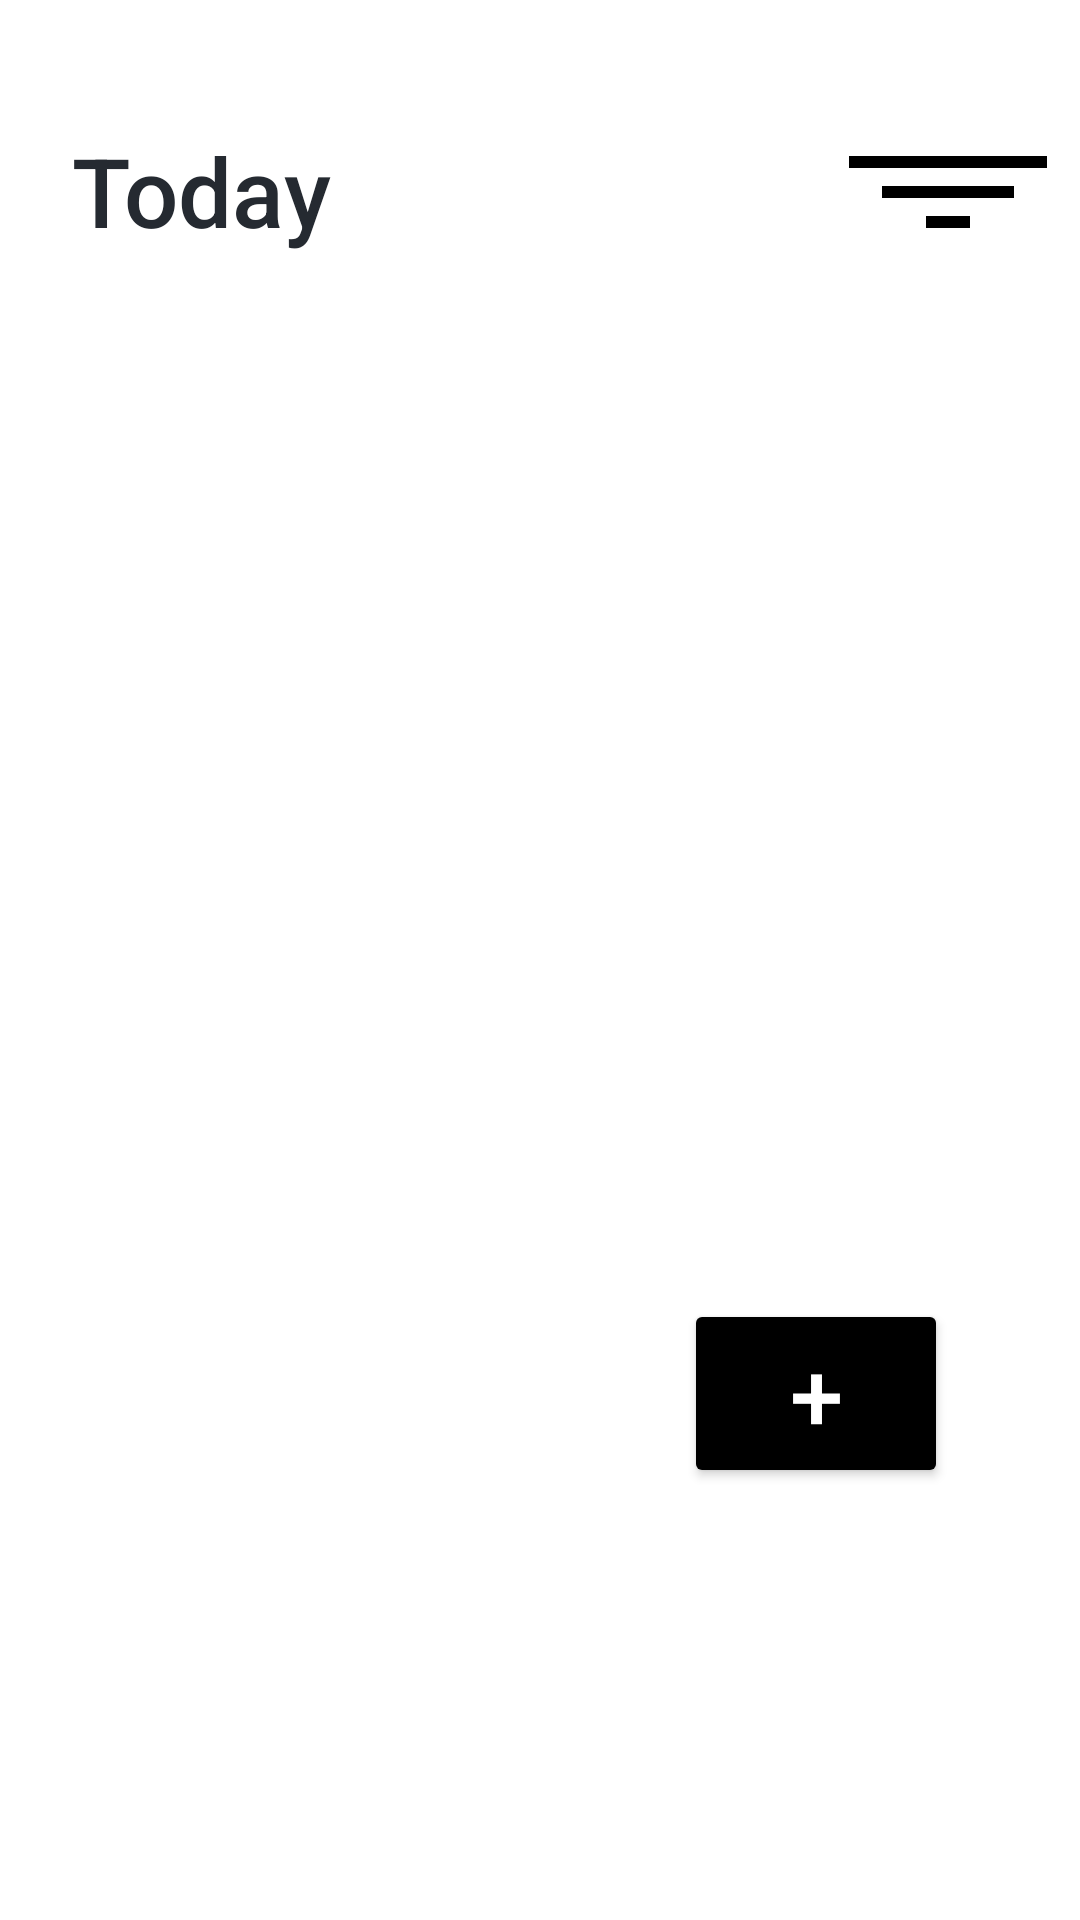

Where icons sit on this 1080x1920 app screen, as (left=x1, top=y1, right=x2, bottom=y2):
filter list: (left=849, top=156, right=1047, bottom=228)
